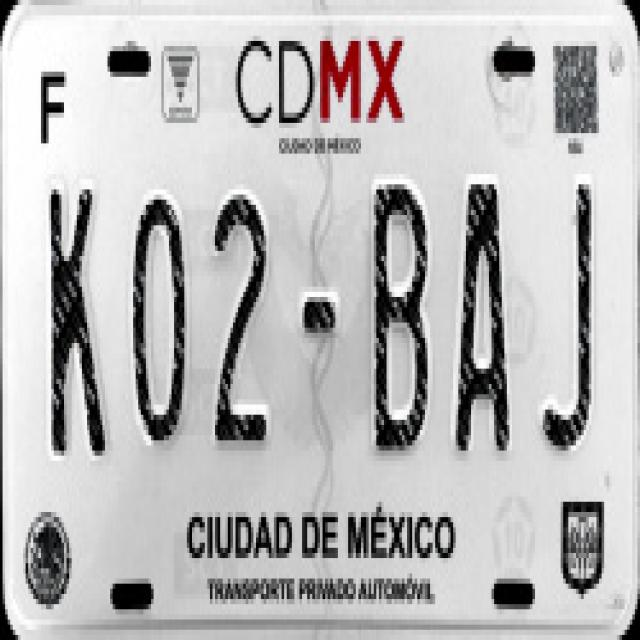placa: (20, 158, 625, 490)
